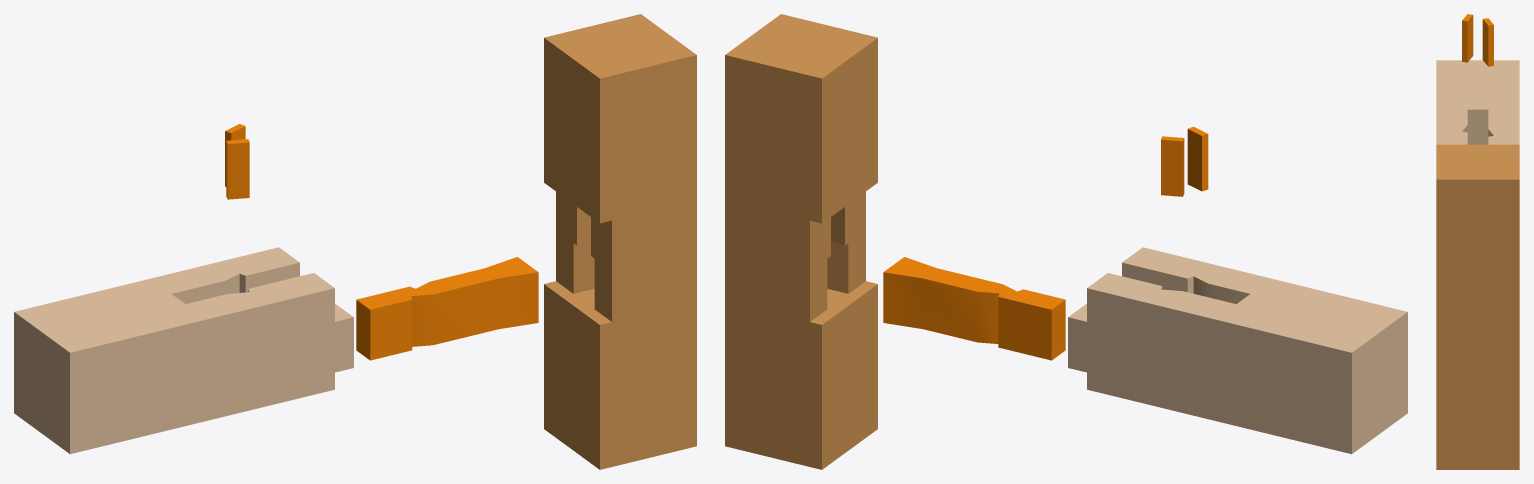
3 views of the same model, side by side, from view 1: azimuth 30°, elevation 25°; view 2: azimuth 150°, elevation 25°; view 3: azimuth 270°, elevation 25° (orthographic). The views are drawn at different scales.
Size of the model in its own units: 6.79 by 4.1 by 1.05.
